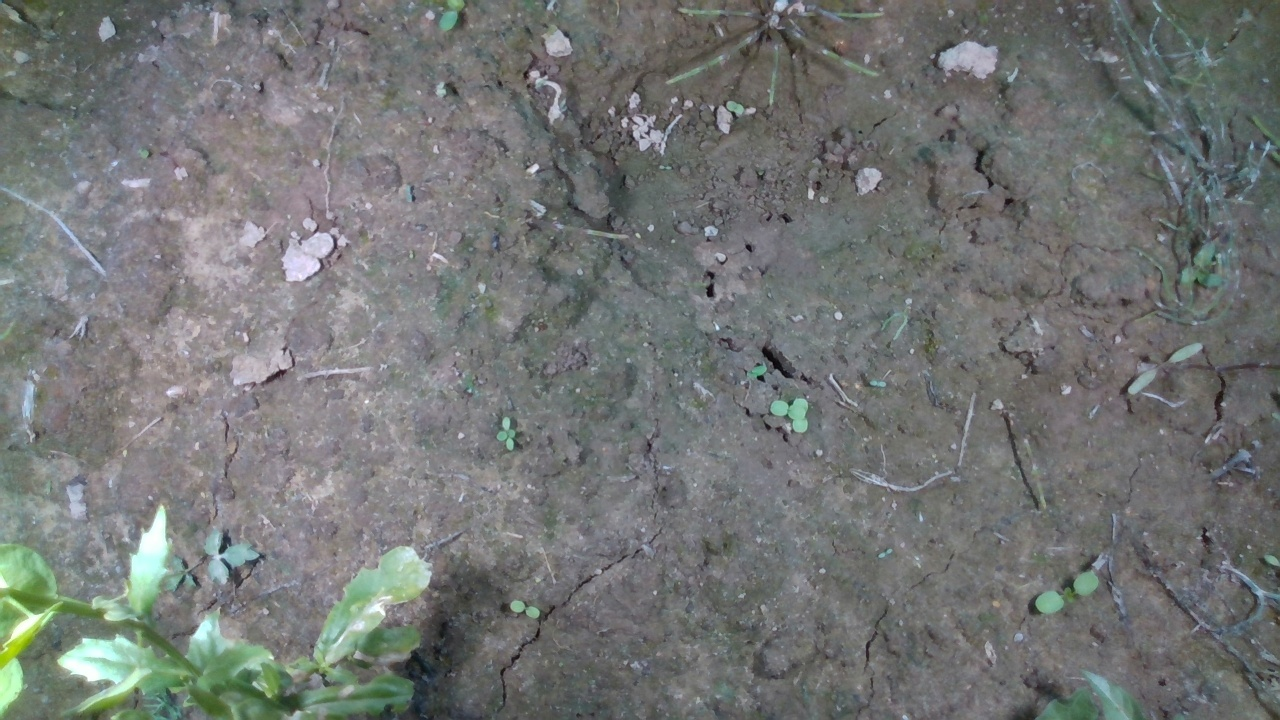weed: (1126, 341, 1204, 395), (1031, 572, 1100, 617), (490, 411, 529, 452), (506, 599, 541, 620)
